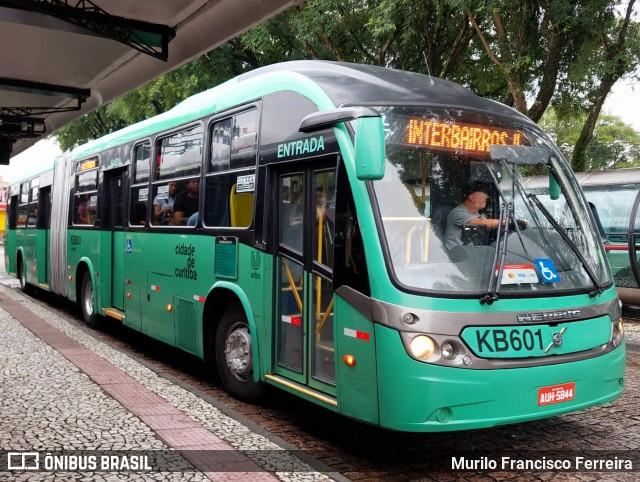INTERBAIRROS II: (403, 112, 527, 162)
